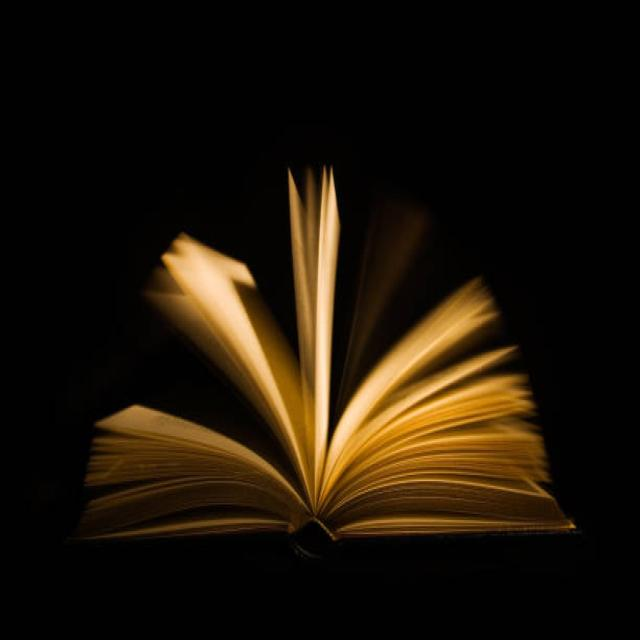electronic: (69, 160, 577, 550)
